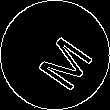M_NW: (21, 21, 89, 89)
